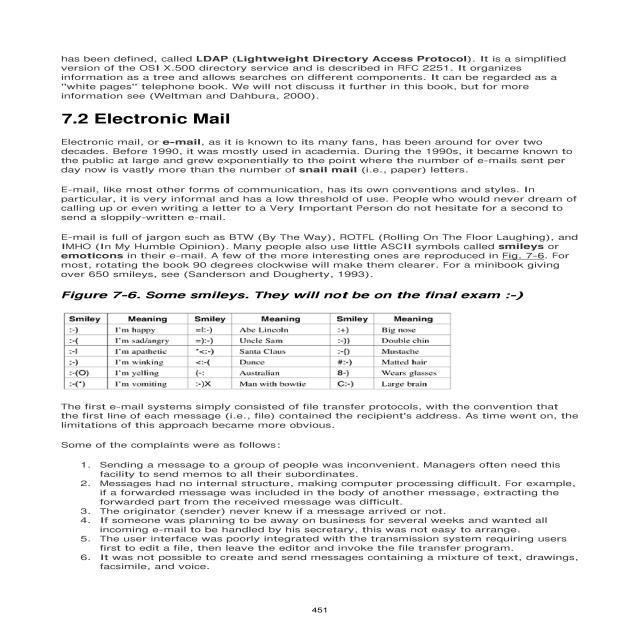diagram: (0, 284, 578, 398)
